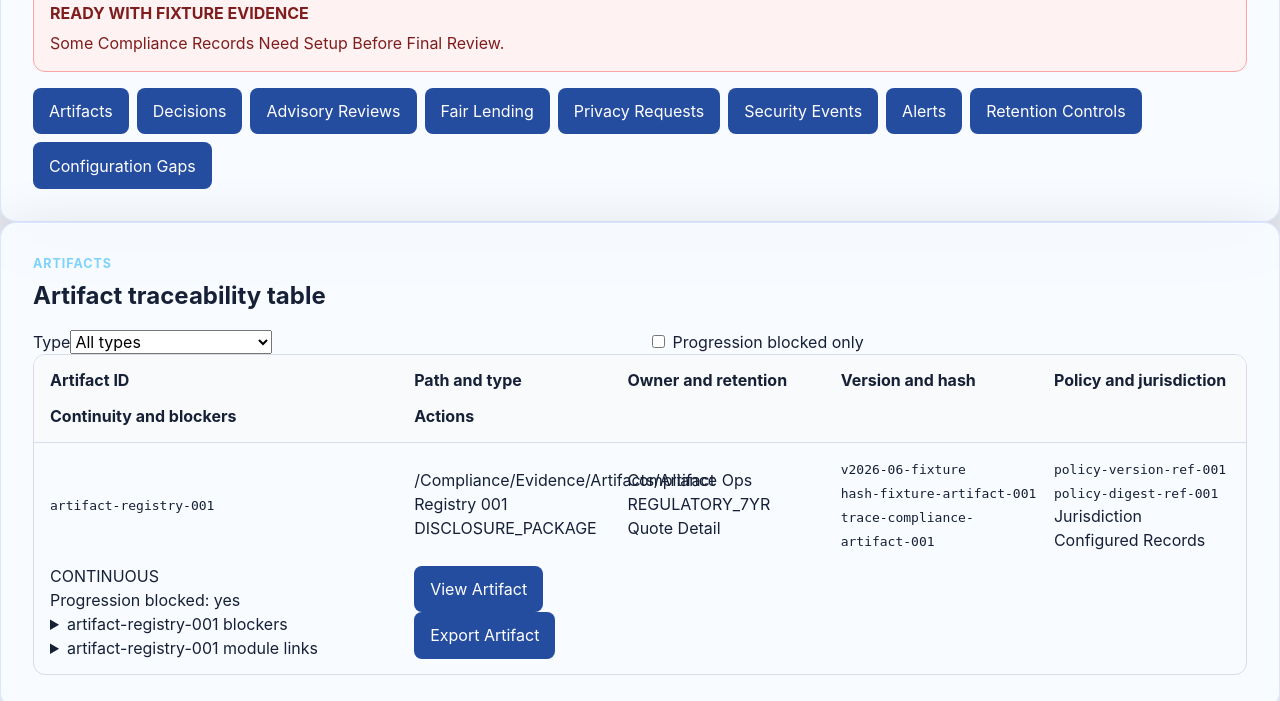
Test: PII-24-S28 compliance evidence registry screen › renders artifact fields, filters, modal, and redaction export affordance
The image size is (1280, 701).
(page scrolled)
Expected: the text "artifact-registry-001" is shown, [50,498,214,513]
Expected: the table named "Compliance evidence artifacts" shows "DISCLOSURE_PACKAGE", [414,518,597,538]
Select "DISCLOSURE PACKAGE" in the dropdown labelled "Type". click: (172, 342)
box: [70,330,272,354]
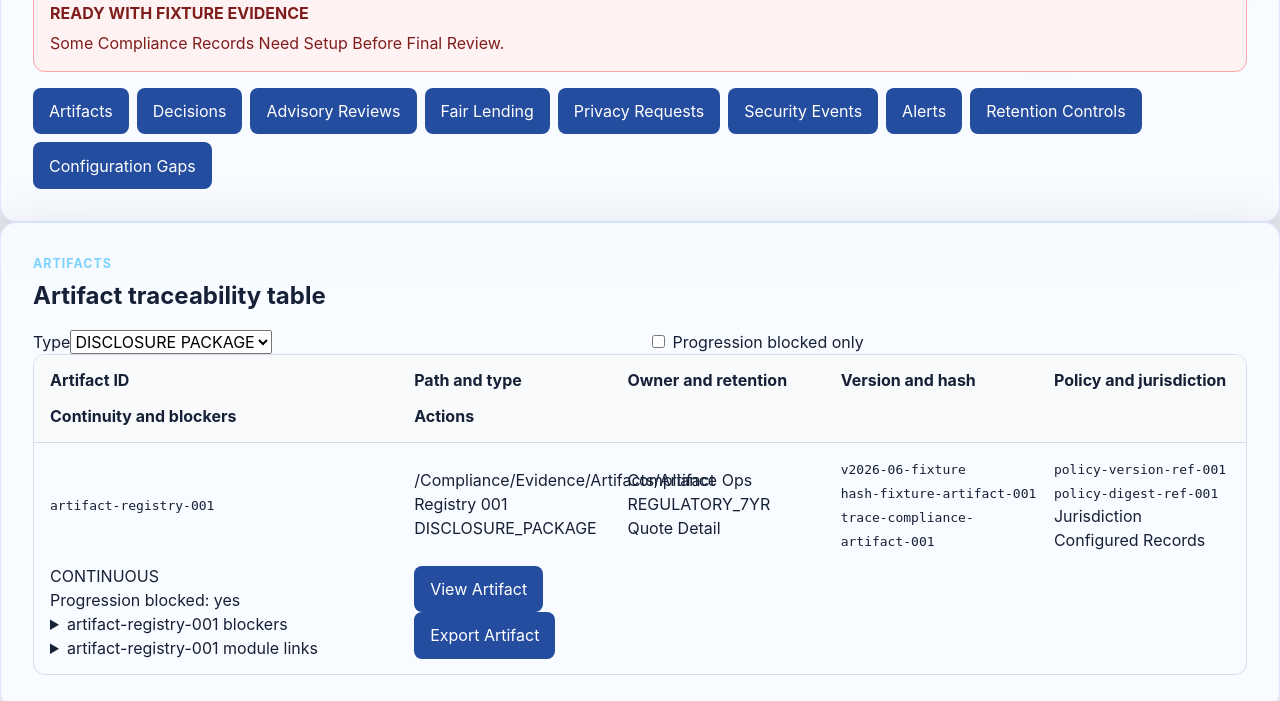
Expected: the text "artifact-registry-001" is shown, [50,498,214,513]
Click the button "View Artifact". click: (479, 589)
box: [414,566,543,612]
(page scrolled)
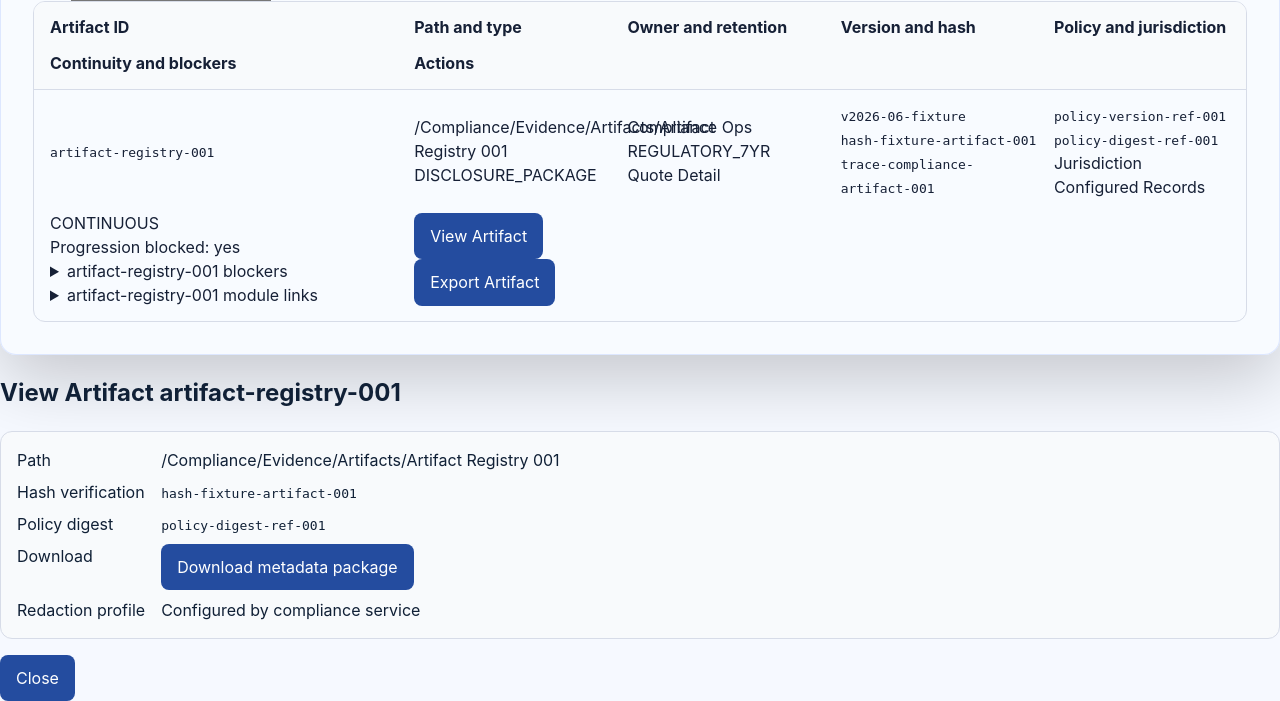
Now the dialog "View Artifact artifact-registry-001" shows "Hash verification", box [17,482,145,502]
